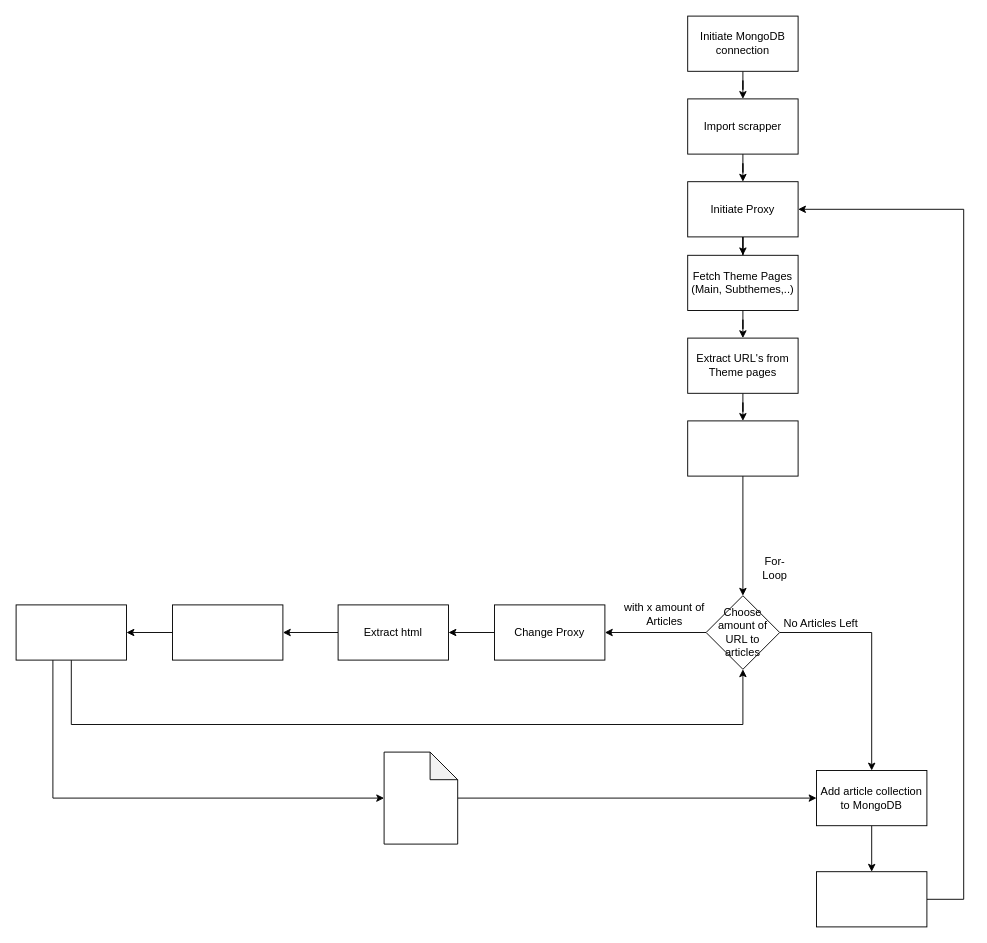
Image size: 987x943. Some labels were removed from this diagram. Here are the shapes that lost their labels. From the top down, the centre of each, then its label:
At (742,448): "Check for already seen URLS in Mongo DB".
At (70,632): "Add to article collection".
At (227,632): "Process html".
At (420,797): "Article Collection".
At (871,899): "Sleep for next Scrapping time".
